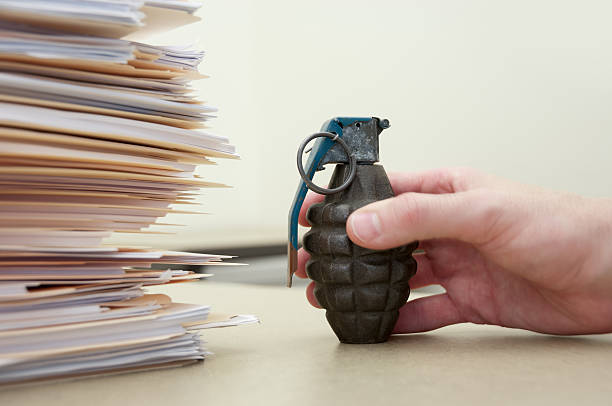e1: (283, 116, 417, 344)
